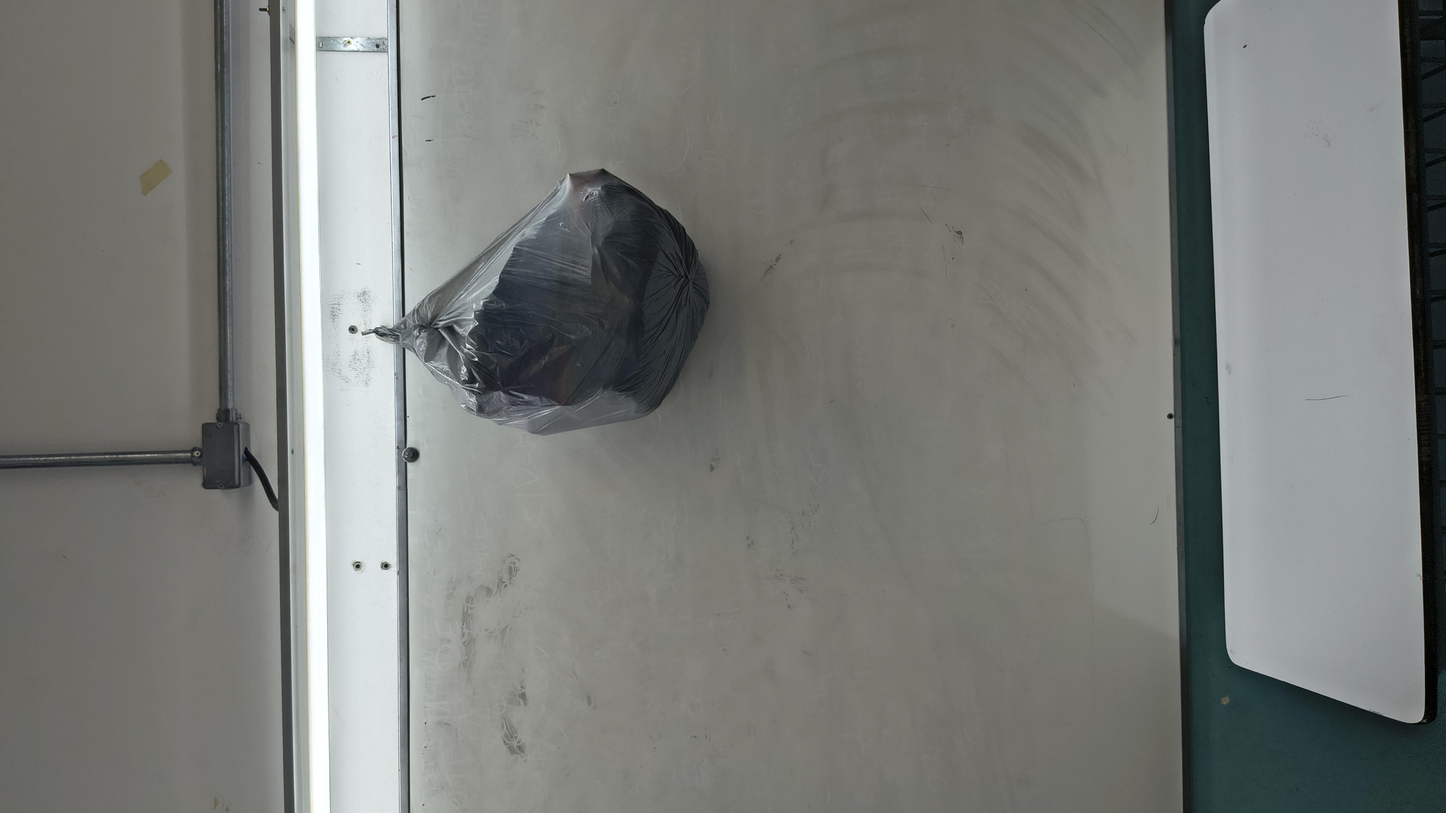Garbage: (559, 226, 1249, 423)
